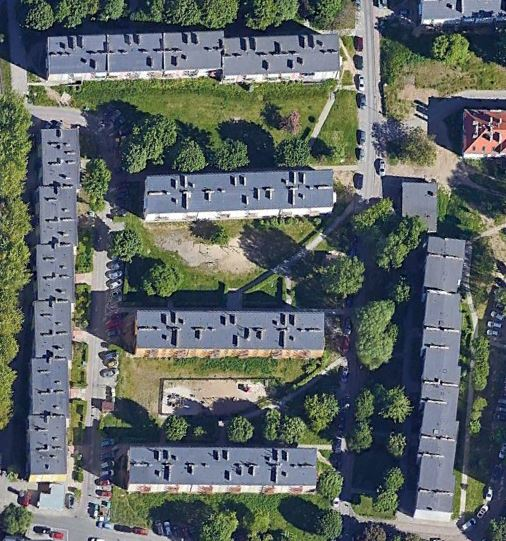block of flats: (22, 124, 83, 484), (395, 234, 471, 522), (41, 31, 344, 85), (122, 439, 321, 502), (138, 165, 341, 226), (128, 307, 331, 361), (415, 1, 506, 37), (393, 174, 442, 238), (457, 102, 506, 164)
